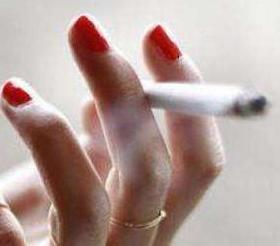smoke: (120, 74, 271, 130)
